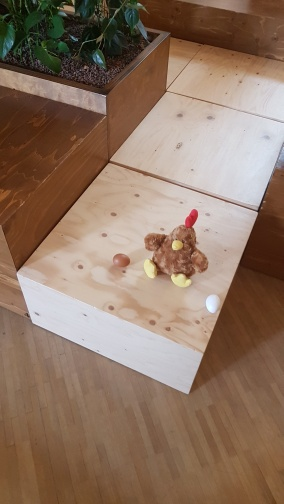chicken: (142, 207, 211, 289)
egg: (205, 293, 223, 316), (111, 253, 131, 269)
